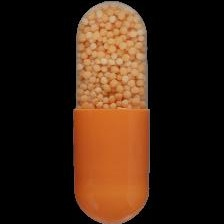0555-0789: (0, 0, 224, 224)
